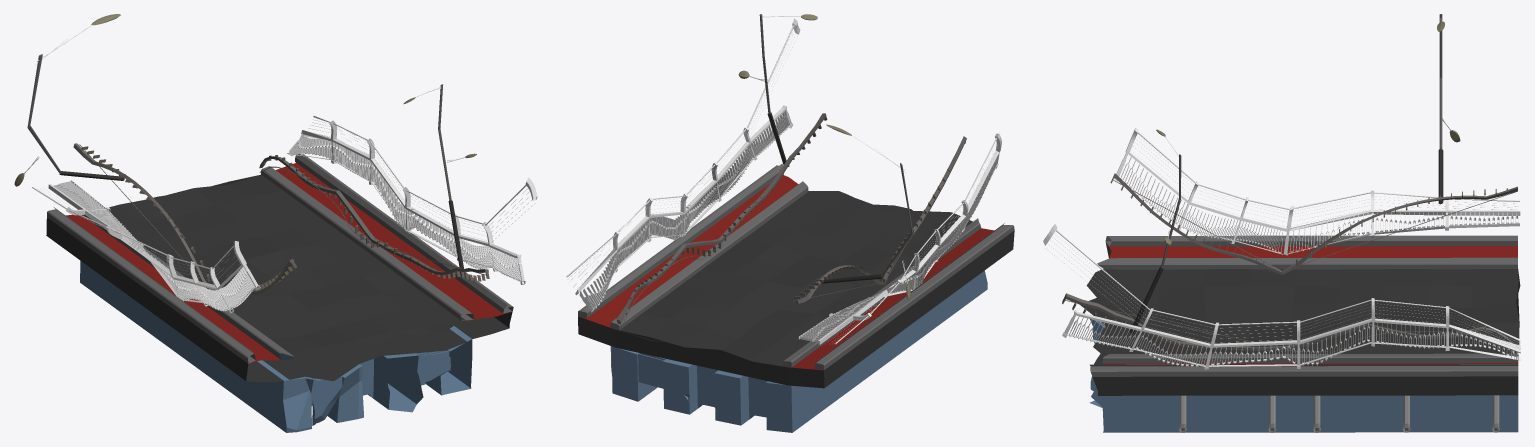
Rendered from bridge_block_break.fbx.
3 views of the same model, side by side, from view 1: azimuth 30°, elevation 25°; view 2: azimuth 150°, elevation 25°; view 3: azimuth 270°, elevation 25° (orthographic). The views are drawn at different scales.
Visible parts, largest first — view 1: BrokenBridgeFloating; view 2: BrokenBridgeFloating; view 3: BrokenBridgeFloating.
Boxes of the visible parts, x1,y1,x2,y2 form: BrokenBridgeFloating: [14, 14, 537, 432]; BrokenBridgeFloating: [566, 14, 1014, 432]; BrokenBridgeFloating: [1043, 14, 1520, 432].
Size of the model in its own units: 1749 by 1533 by 2137.
